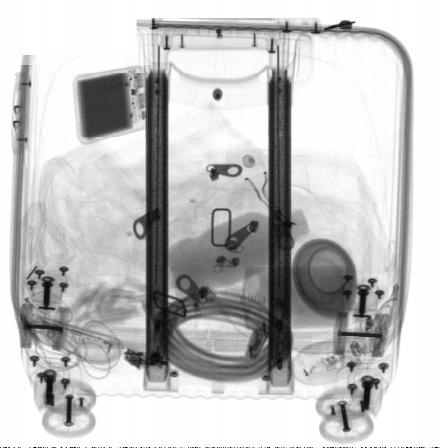Powerbank: (73, 64, 149, 145)
